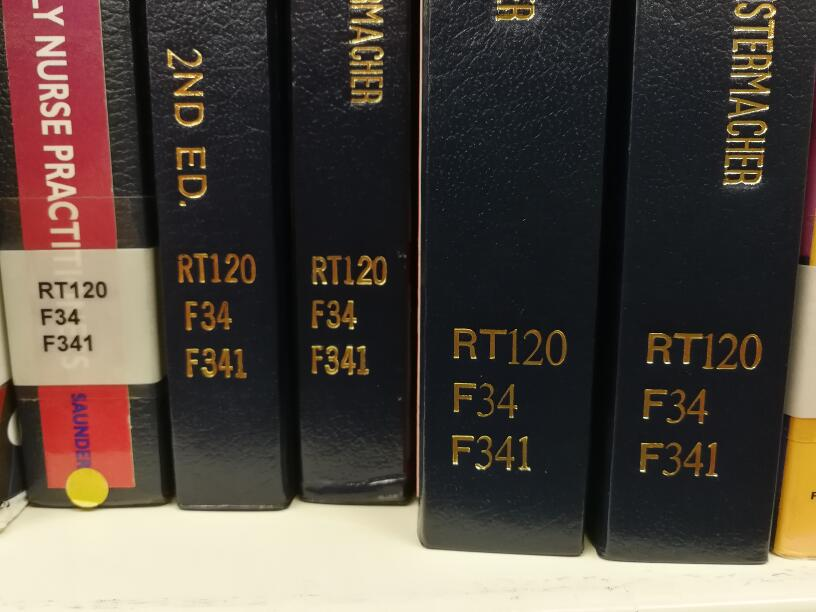booklabel: (634, 326, 769, 485), (443, 321, 575, 479), (172, 247, 260, 385), (304, 250, 393, 382), (34, 276, 112, 356)
